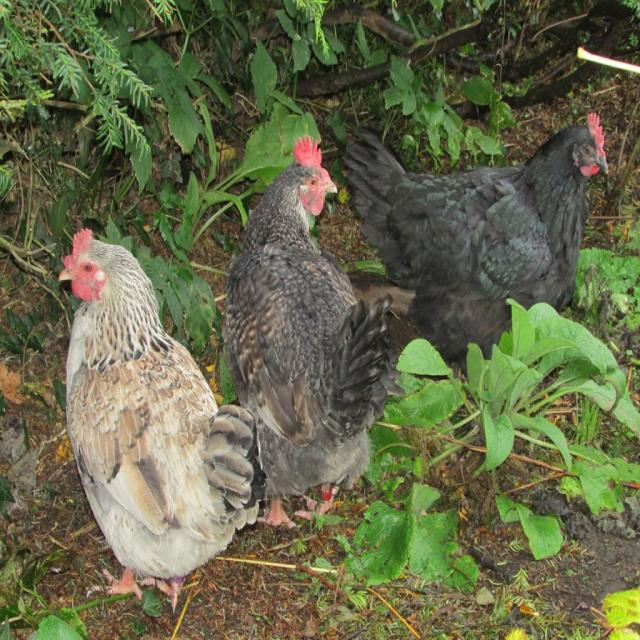Chicken: (54, 220, 268, 611), (340, 112, 612, 380), (221, 136, 406, 529)
